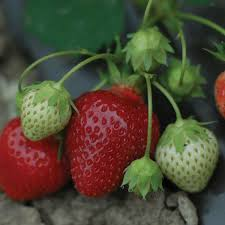strawberry: (64, 88, 164, 199), (1, 112, 72, 204)
